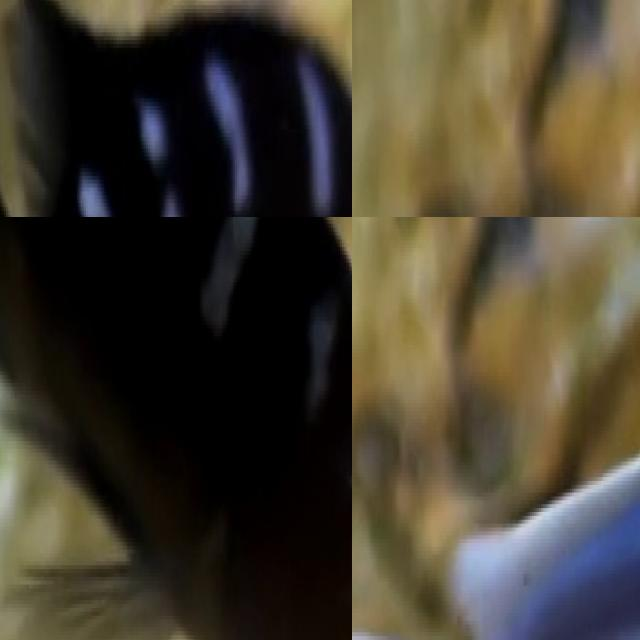fish: (0, 217, 352, 640), (0, 0, 352, 217)
